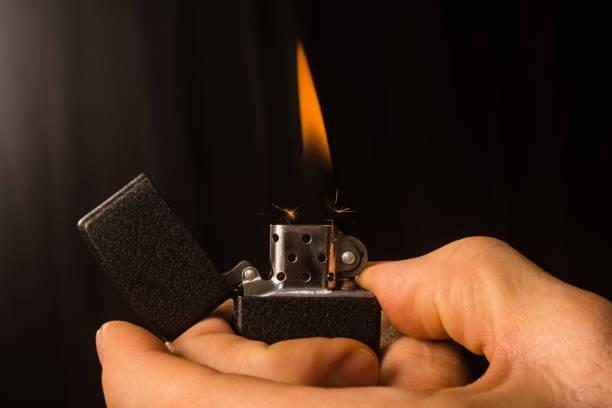Fire: (292, 37, 337, 217)
